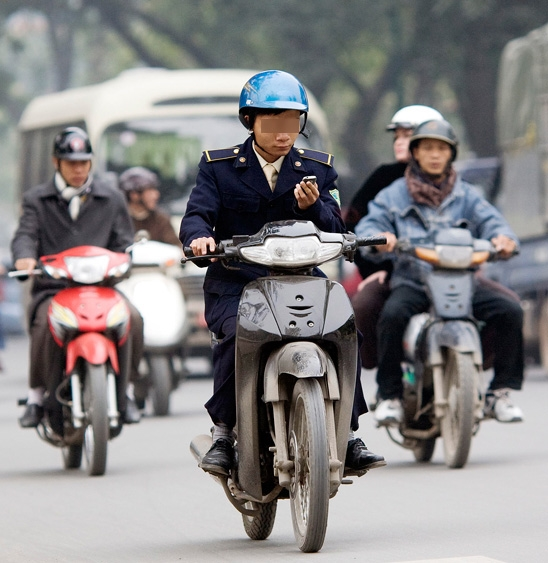dieu khien xe may: (219, 67, 349, 388)
su dung dien thoai: (238, 70, 323, 207)
